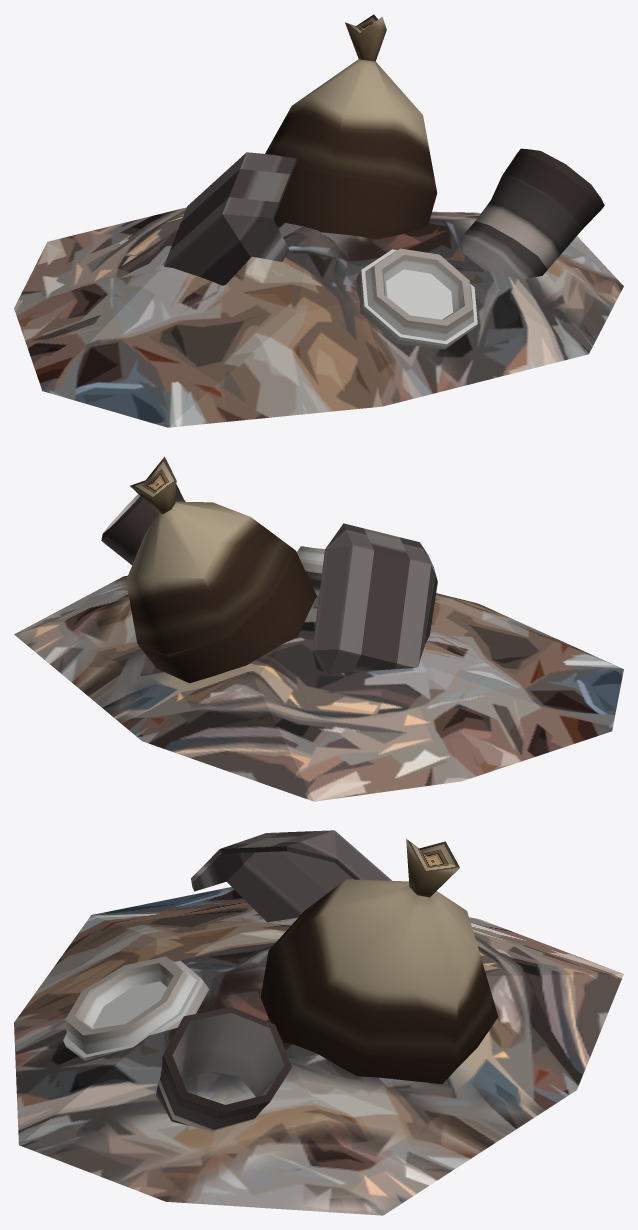
The model's file is Trash_pile_001.fbx.
The picture shows the model from 3 angles, top to bottom: view 1: azimuth 30°, elevation 25°; view 2: azimuth 150°, elevation 25°; view 3: azimuth 270°, elevation 25°; orthographic projection. The views are drawn at different scales.
Visible parts, largest first — view 1: Trash_pile_001; view 2: Trash_pile_001; view 3: Trash_pile_001.
Part boxes in pixels (x1,y1,x2,y2): Trash_pile_001: (14,14,623,427); Trash_pile_001: (14,456,623,801); Trash_pile_001: (14,830,623,1215).
Size of the model in its own units: 60.73 by 46.87 by 26.02.
